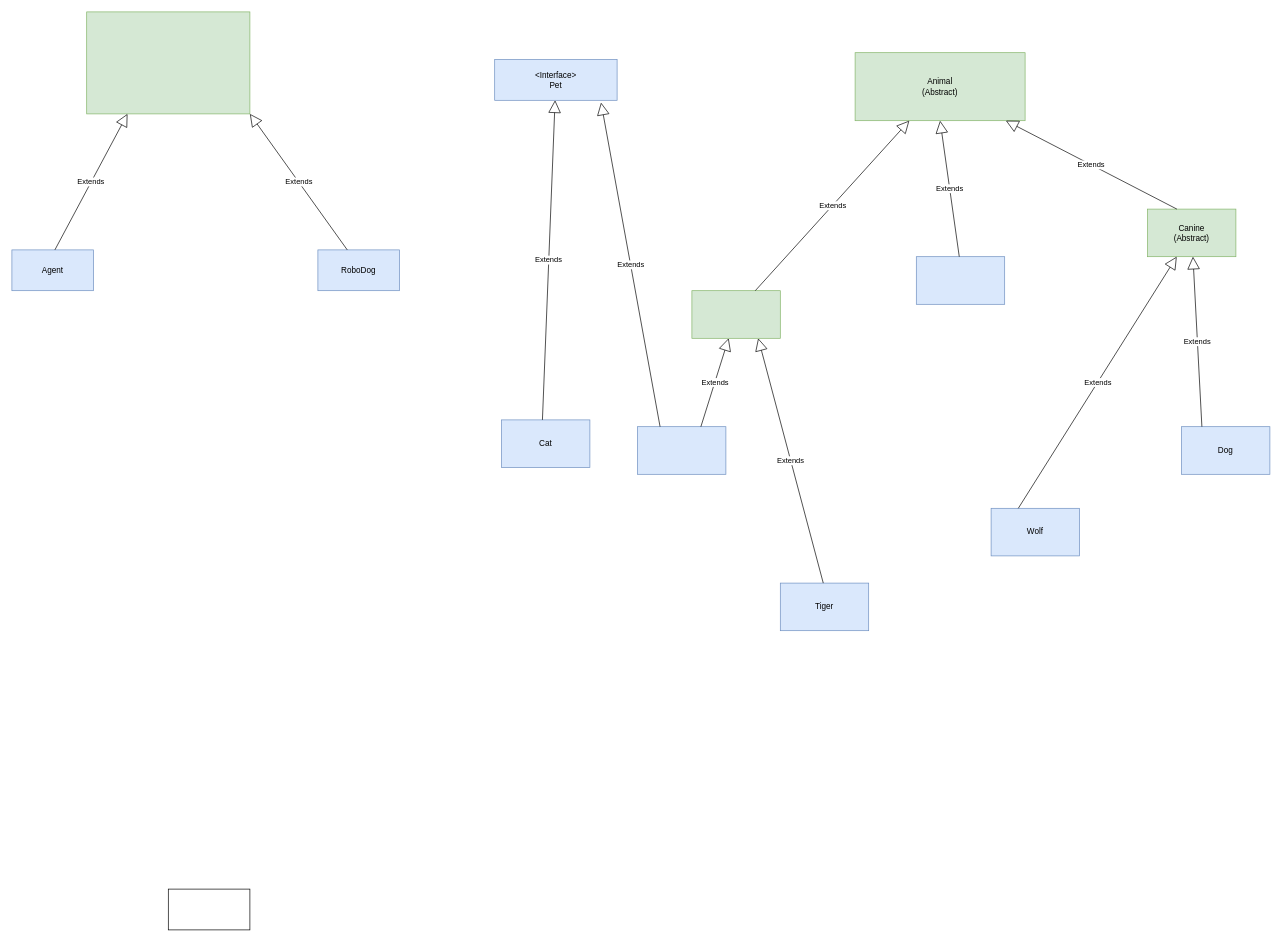
The diagram is 1282 pixels wide and 942 high, and some of its shapes have lost their labels. Each missing label, with the centre of its shape:
"Feline" belongs at point (735, 314).
"Hippo" belongs at point (960, 280).
"Lion" belongs at point (681, 450).
"Robot (Abstract)" belongs at point (168, 62).
